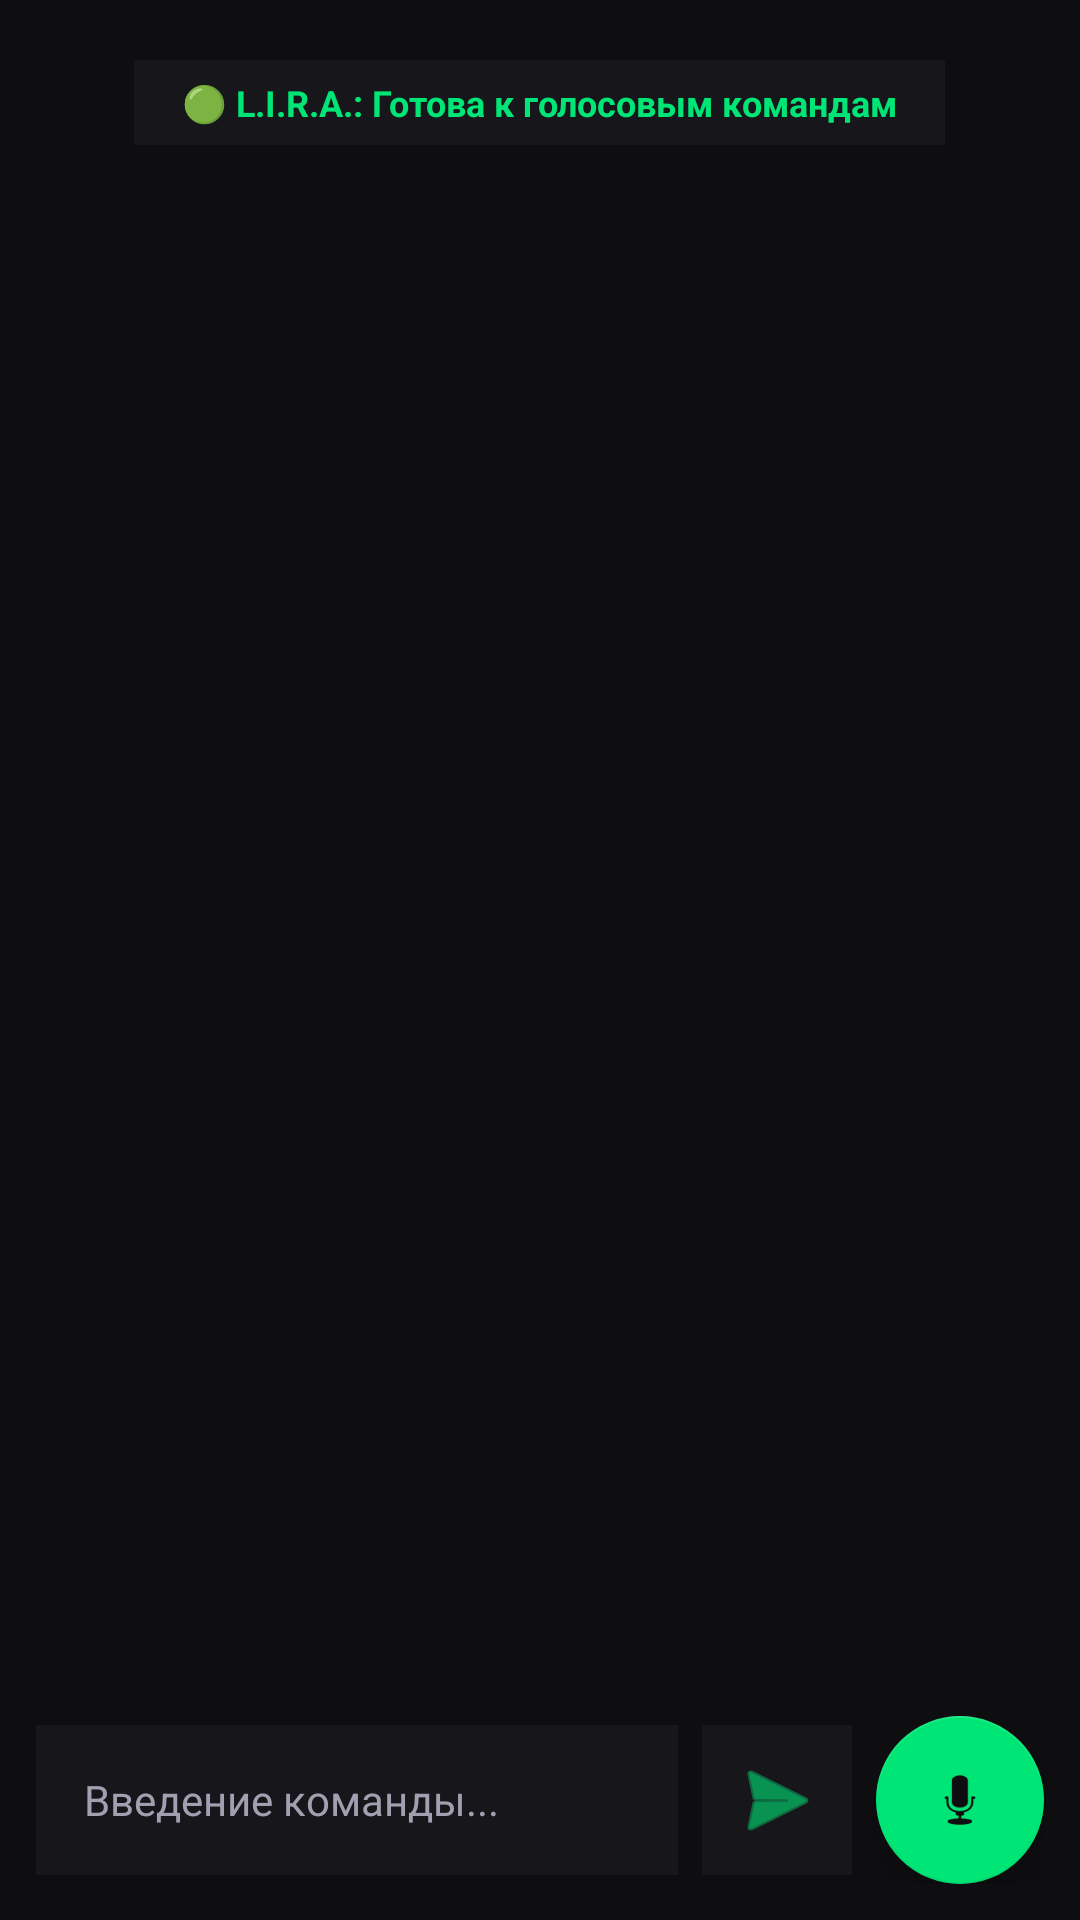

Icons on this 1080w x 1920h Android screen, each with its box as (x1, y1, x2, y2):
Голос: (876, 1716, 1044, 1884)
Отправить: (747, 1770, 809, 1831)
